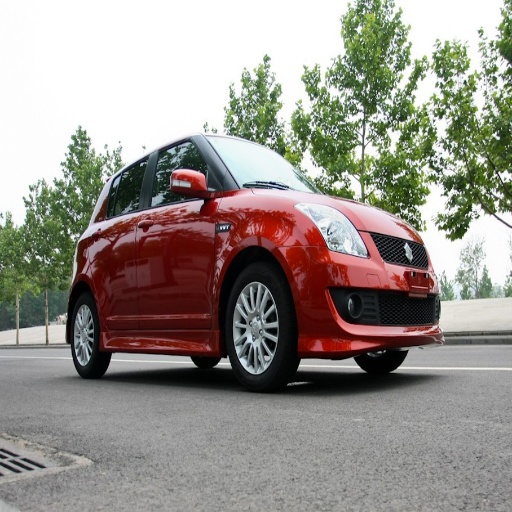front_bumper: (293, 231, 434, 356)
front_right_door: (138, 139, 217, 331)
front_right_light: (302, 207, 369, 257)
